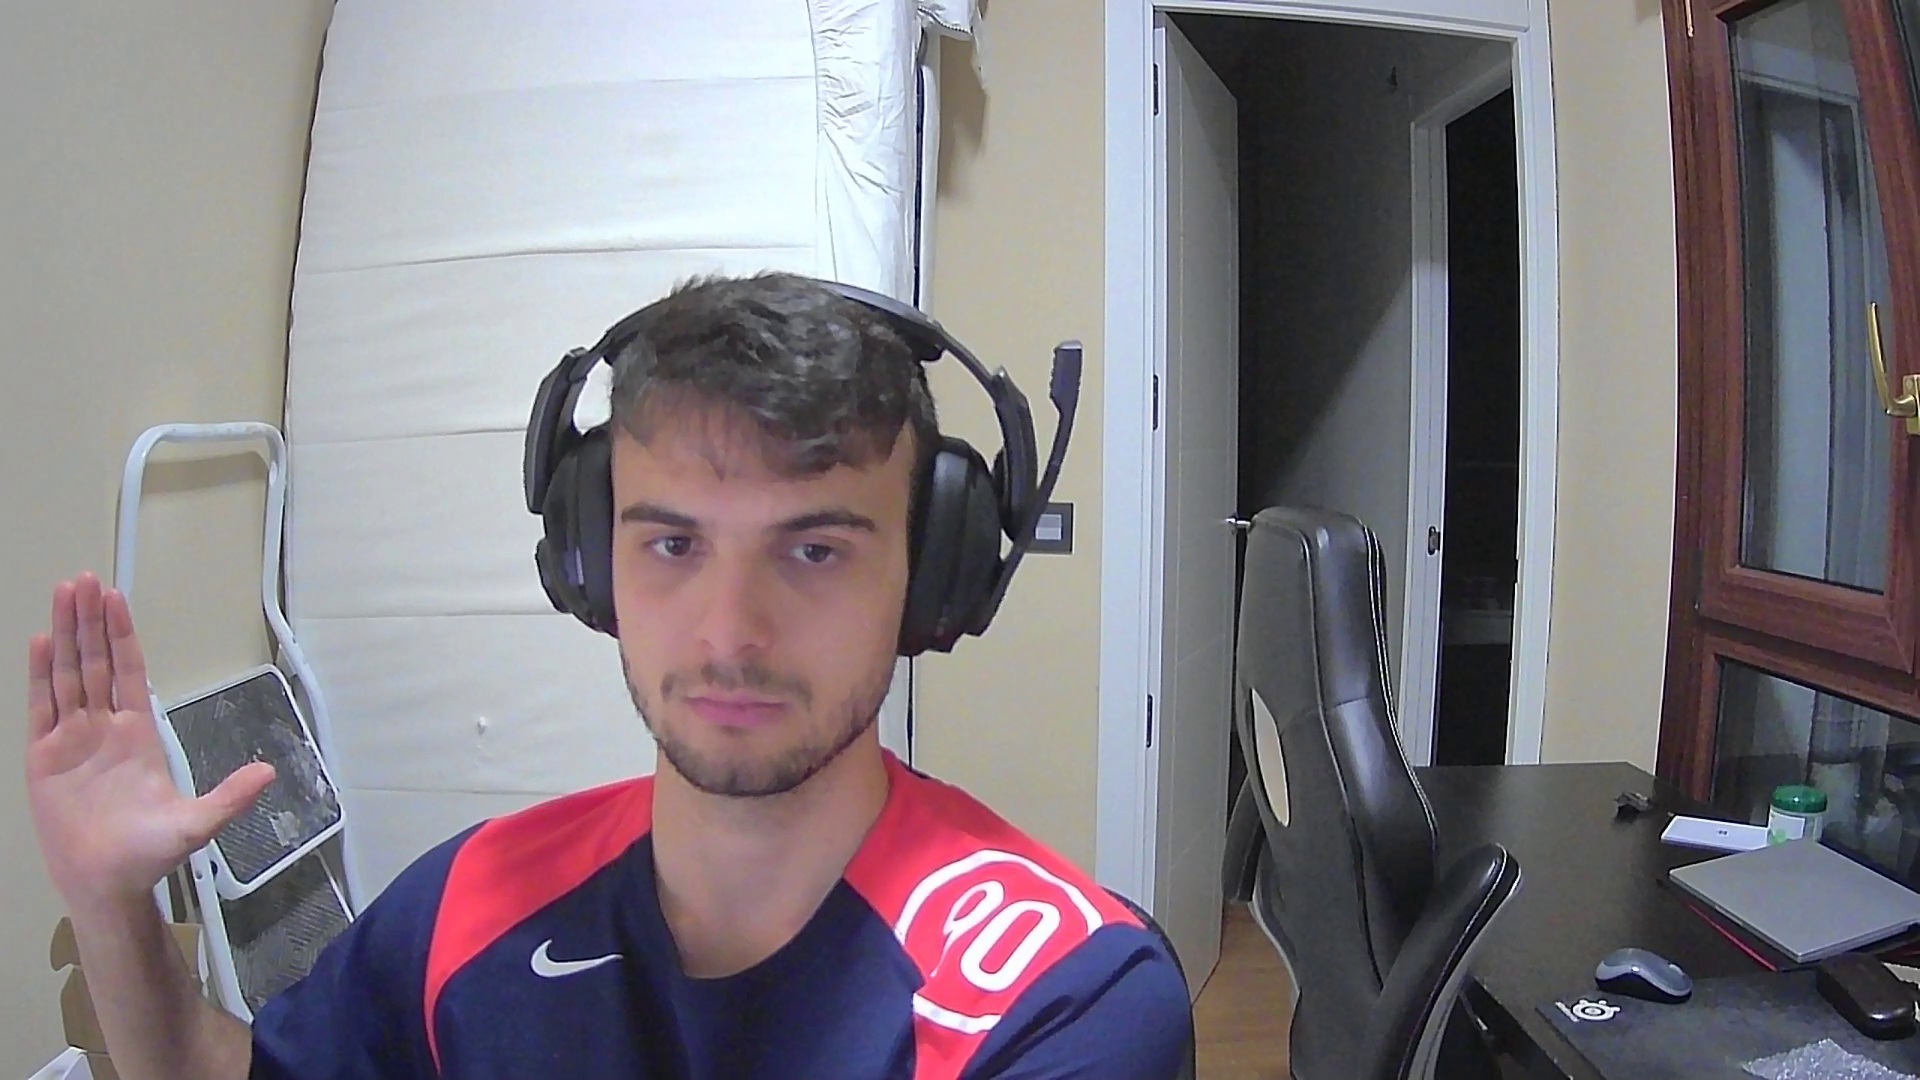Palm: (21, 564, 276, 916)
